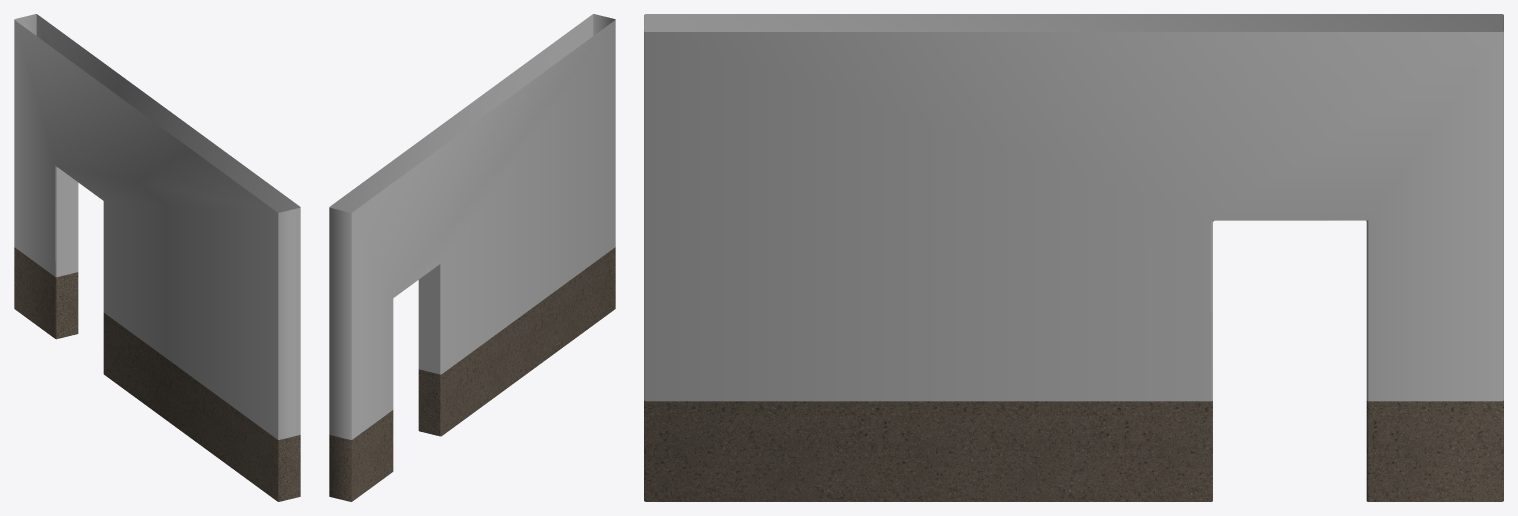
File: WallDoor_06_02.fbx
3 views of the same model, side by side, from view 1: azimuth 30°, elevation 25°; view 2: azimuth 150°, elevation 25°; view 3: azimuth 270°, elevation 25° (orthographic). The views are drawn at different scales.
Visible parts, largest first — view 1: WallDoor_06_02; view 2: WallDoor_06_02; view 3: WallDoor_06_02.
Boxes of the visible parts, left/top/right/bottom form: WallDoor_06_02: left=14, top=14, right=300, bottom=501; WallDoor_06_02: left=329, top=14, right=615, bottom=501; WallDoor_06_02: left=644, top=14, right=1503, bottom=501.
Bounding box in the file's own units: 0.3 × 3.62 × 6.
